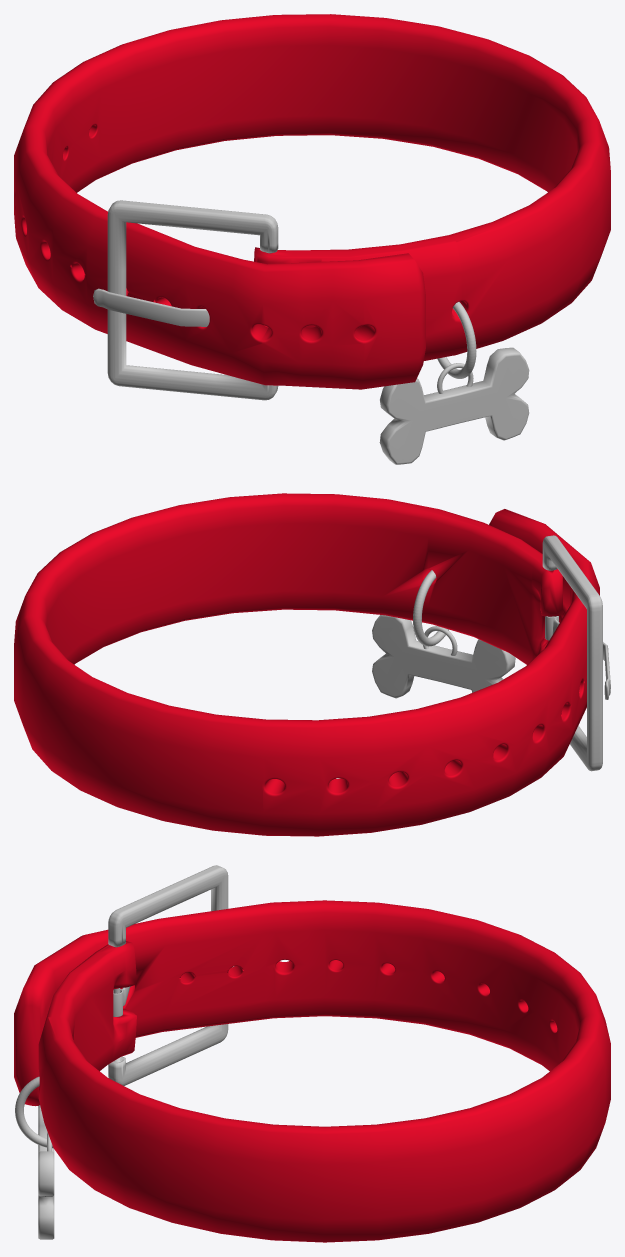
Rendered from dog_collar.glb.
3 renders of one model, top to bottom at view 1: azimuth 30°, elevation 25°; view 2: azimuth 150°, elevation 25°; view 3: azimuth 270°, elevation 25°, orthographic. The views are drawn at different scales.
Visible parts, largest first — view 1: Cylinder, Cube.003, Cube, Cube.004, Torus; view 2: Cylinder, Cube, Cube.003, Torus, Cube.004; view 3: Cylinder, Cube.003, Cube, Torus.
Part boxes in pixels (x1,y1,x2,y2): Cylinder: (14,14,610,389); Cube.003: (107,200,278,400); Cube: (379,347,529,464); Cube.004: (93,288,209,326); Torus: (437,302,476,378); Cylinder: (14,493,599,836); Cube: (372,615,515,698); Cube.003: (542,535,602,771); Torus: (413,570,448,646); Cube.004: (545,616,610,699); Cylinder: (14,900,610,1242); Cube.003: (108,865,228,1085); Cube: (38,1105,54,1239); Torus: (15,1076,53,1148).
Size of the model in its own units: 0.2345 by 0.1025 by 0.2395.
